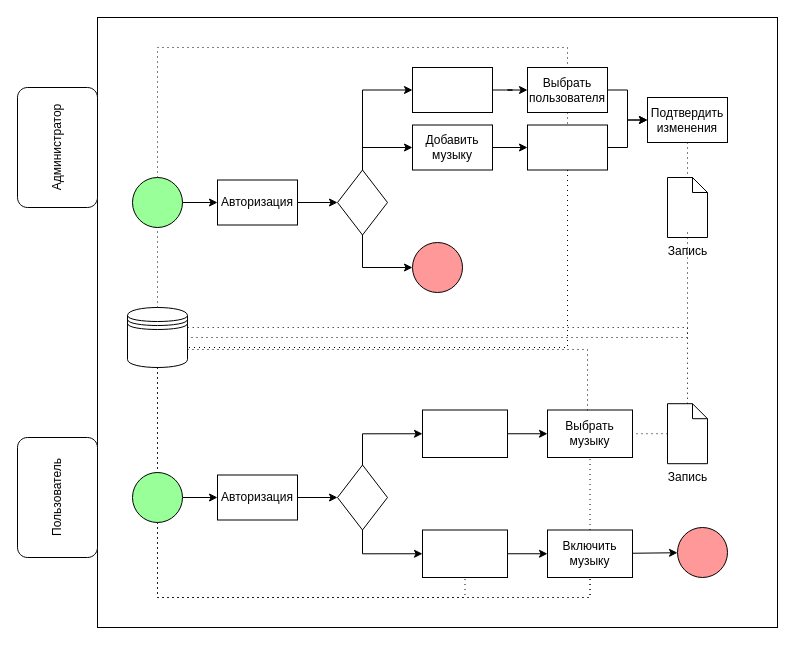
Some shapes in this 795 by 645 pixel diagram are drawn without their labels. The shapes that lost their labels are listed below. From the top down, each one's centre as x and y in pixels, then its label:
the point at 452,89: Заблокировать пользователя
the point at 567,147: Выбрать аудио-запись
the point at 157,337: БД
the point at 465,433: Добавить музыку, в свою музыку
the point at 465,553: Просмотреть список музыки
